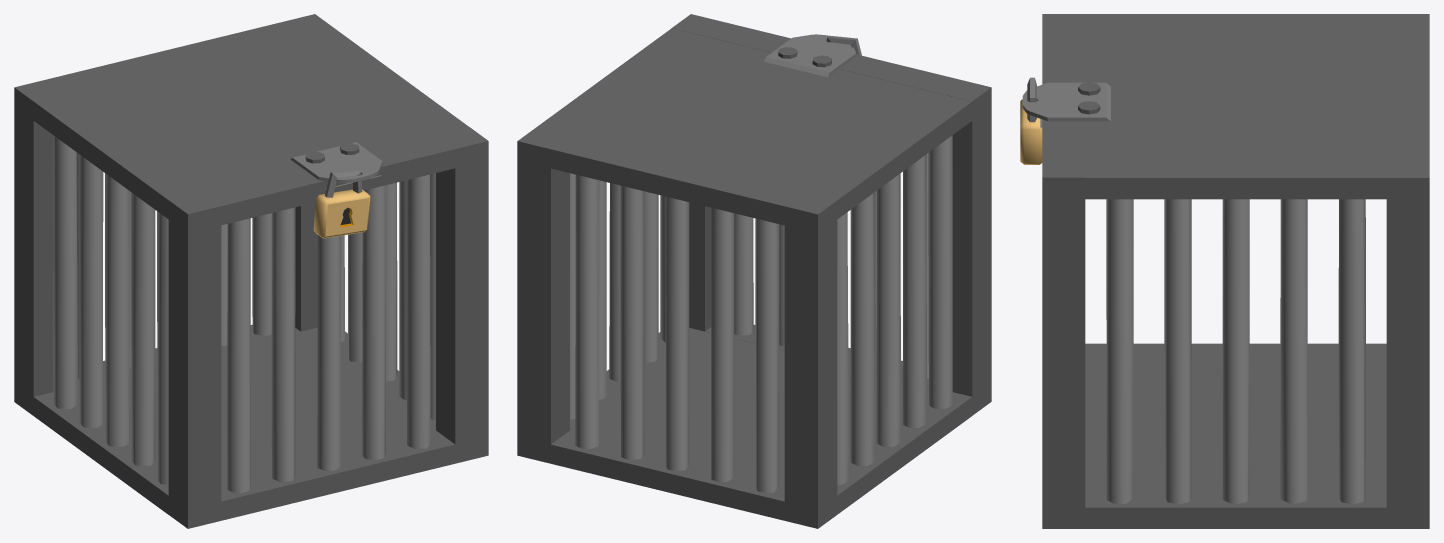
File: garagiste_cage.fbx
3 views of the same model, side by side, from view 1: azimuth 30°, elevation 25°; view 2: azimuth 150°, elevation 25°; view 3: azimuth 270°, elevation 25° (orthographic). The views are drawn at different scales.
Parts seen in each view (by area): view 1: cage, cagedoor, locker; view 2: cage, cagedoor; view 3: cage, cagedoor, locker.
Part boxes in pixels (bbox=[...]): cage: bbox=[14, 14, 468, 514]; cagedoor: bbox=[168, 127, 488, 528]; locker: bbox=[313, 189, 370, 238]; cage: bbox=[517, 28, 972, 528]; cagedoor: bbox=[672, 14, 991, 415]; cage: bbox=[1022, 14, 1429, 528]; cagedoor: bbox=[1040, 14, 1085, 528]; locker: bbox=[1020, 99, 1042, 164].
Bounding box in the file's own units: 9.42 × 9.96 × 9.74.
